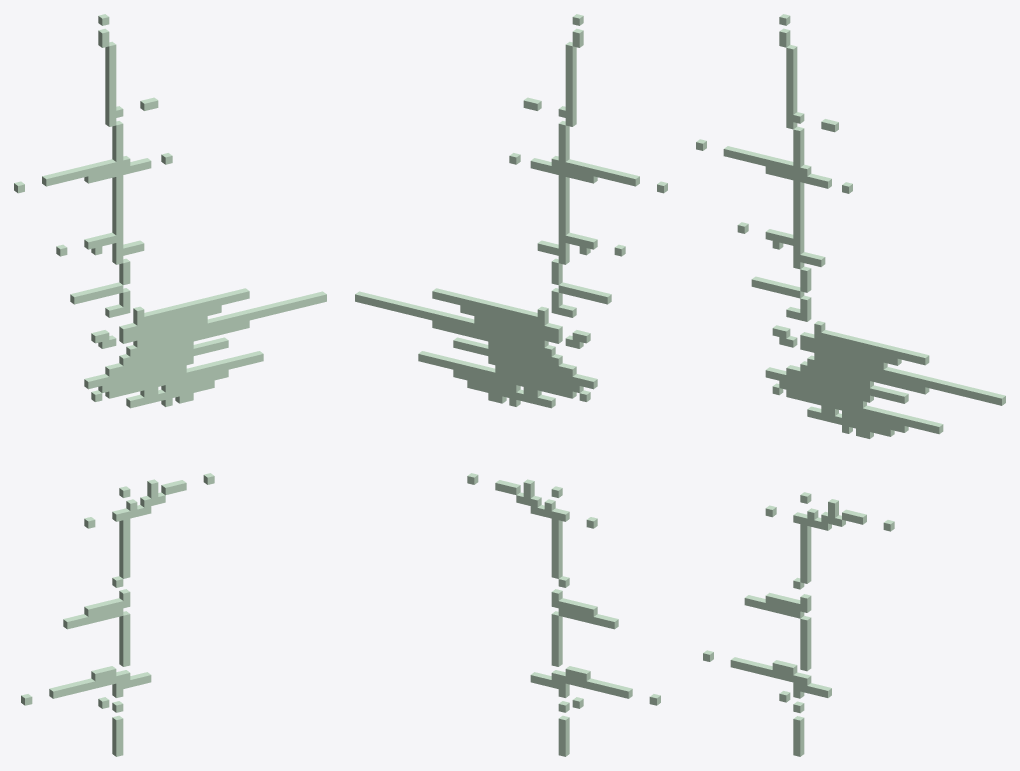
Rendered from Fight_026_2_15_fx.obj.
3 renders of one model, left to right at view 1: azimuth 30°, elevation 25°; view 2: azimuth 150°, elevation 25°; view 3: azimuth 330°, elevation 25°, orthographic.
Bounding box in the file's own units: 4.4 × 10.1 × 0.1.
1 material, 1 textured.
